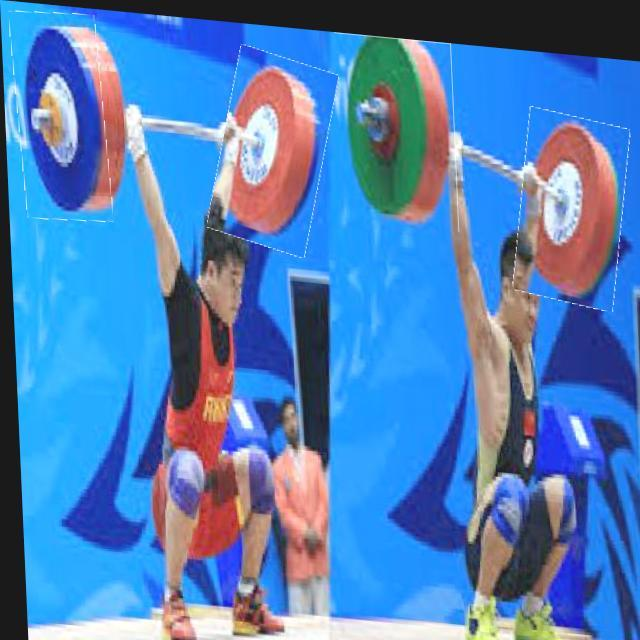barbell: (210, 42, 336, 252), (335, 26, 459, 224), (511, 97, 631, 299), (12, 9, 110, 224)
